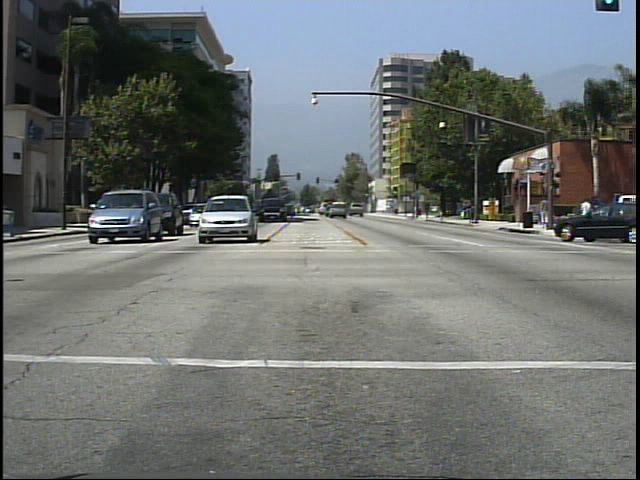person: (578, 193, 600, 237), (537, 193, 551, 235)
